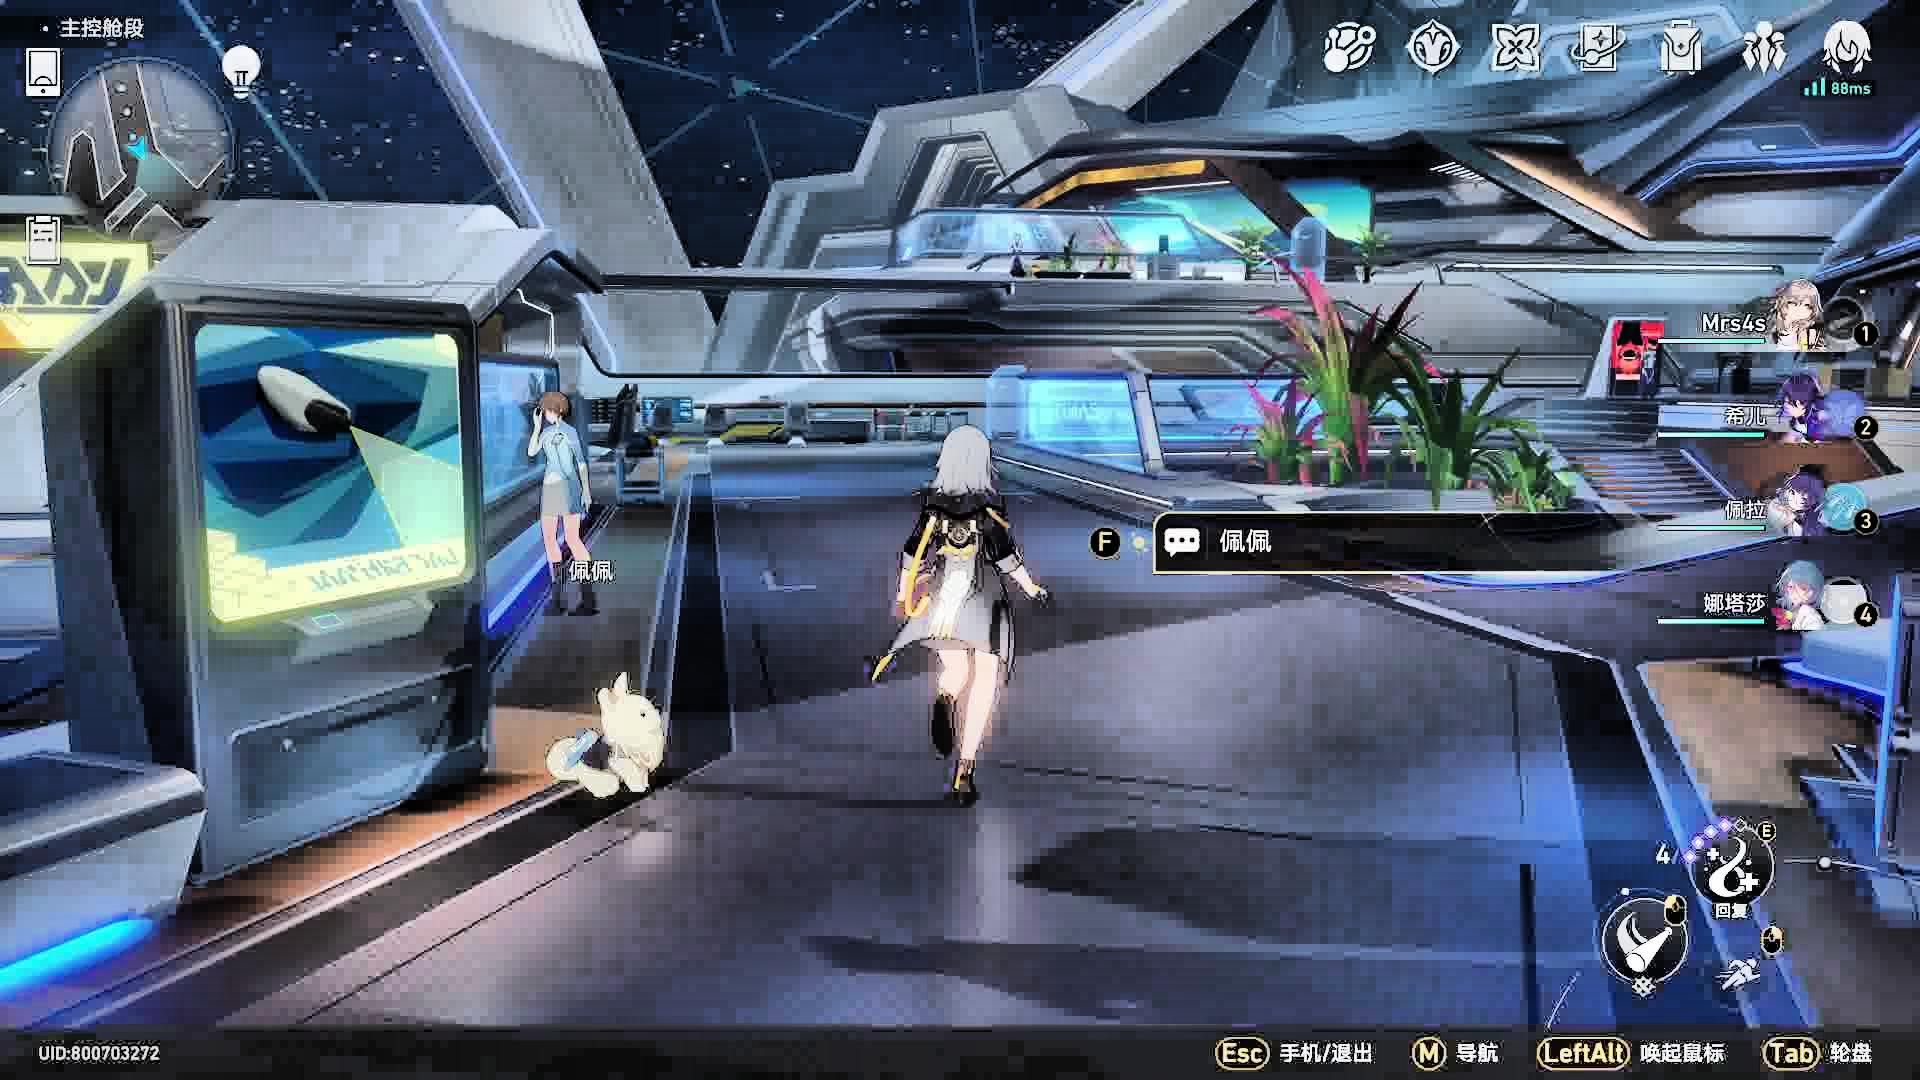Self: (872, 429, 1042, 824)
TeamMate: (529, 390, 597, 620)
